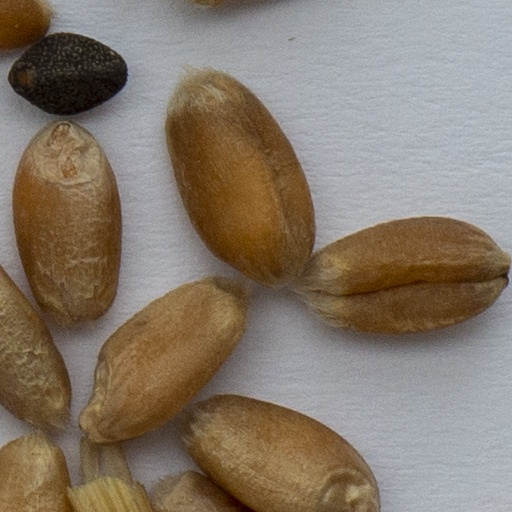Peel-poly: (74, 444, 151, 511)
